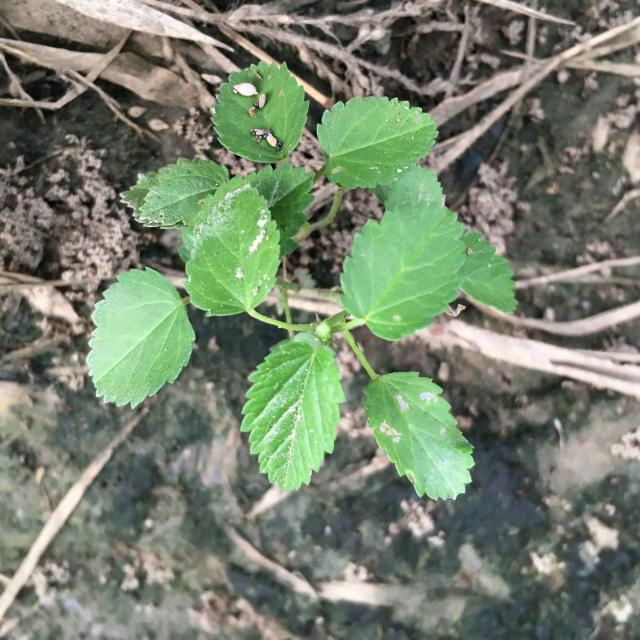PricklySida: (87, 61, 517, 500)
